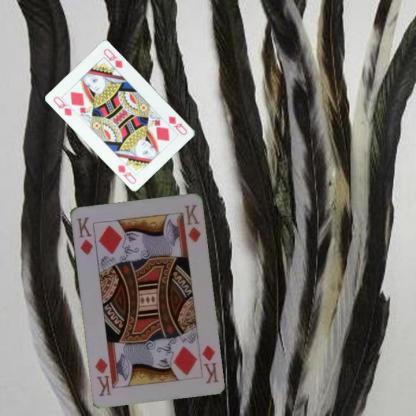Kd: (200, 342, 220, 385), (74, 214, 94, 256)
Qd: (51, 94, 78, 117), (166, 113, 189, 136)
